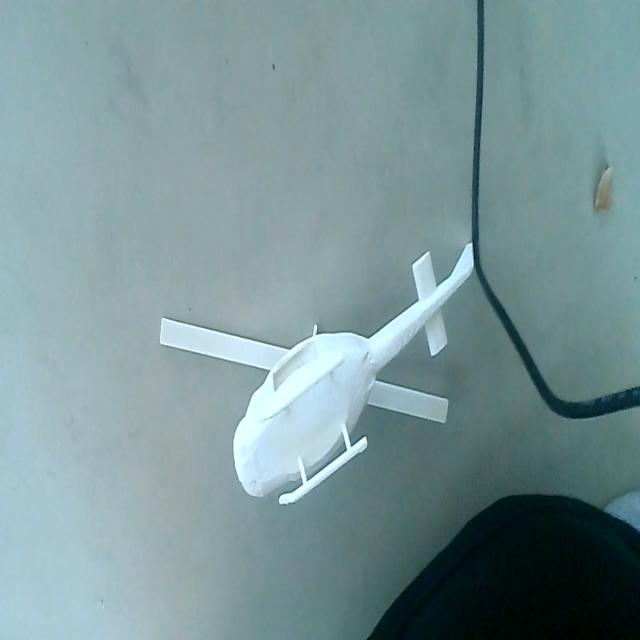Helicopter: (156, 240, 474, 509)
